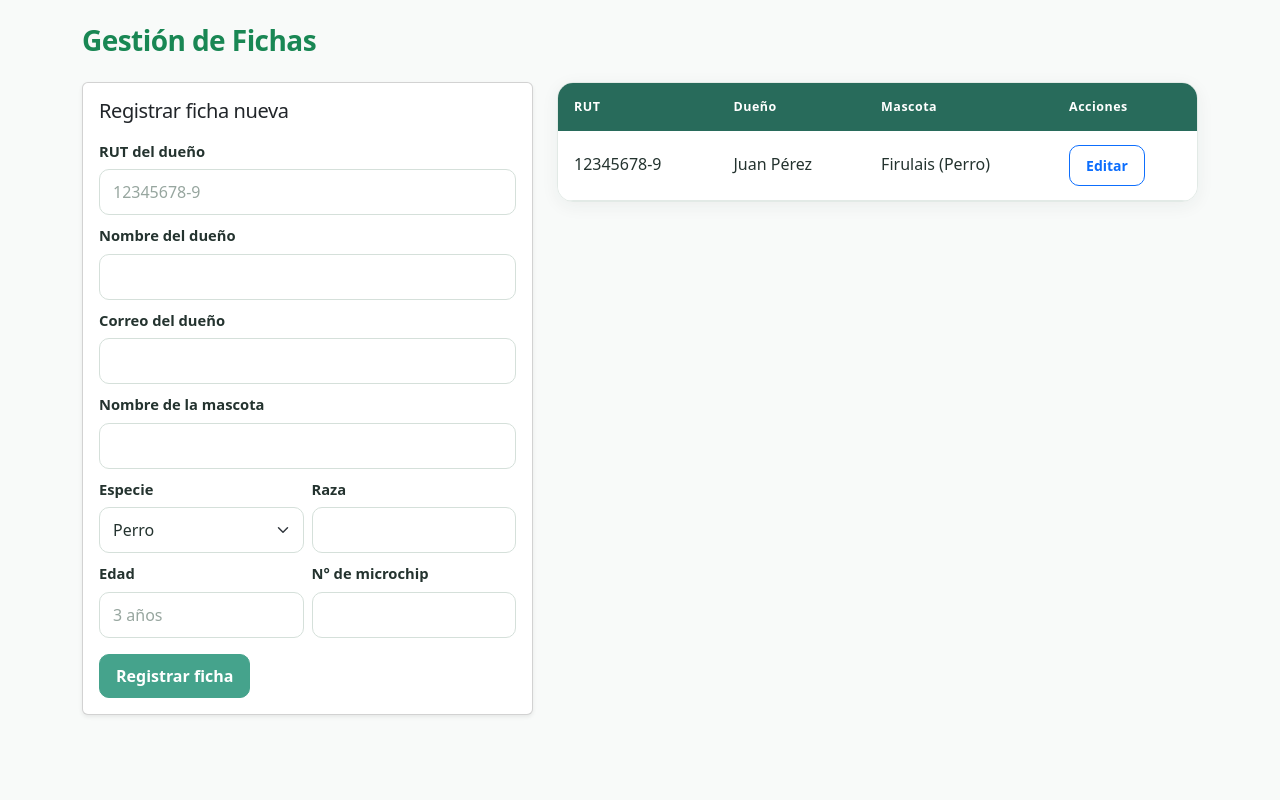
Test: FichasPage › registra una ficha nueva y la muestra en la lista
Type "11222333-4" into the field labelled "RUT del dueño" at {"x": 308, "y": 192}, box [99,169,516,215]
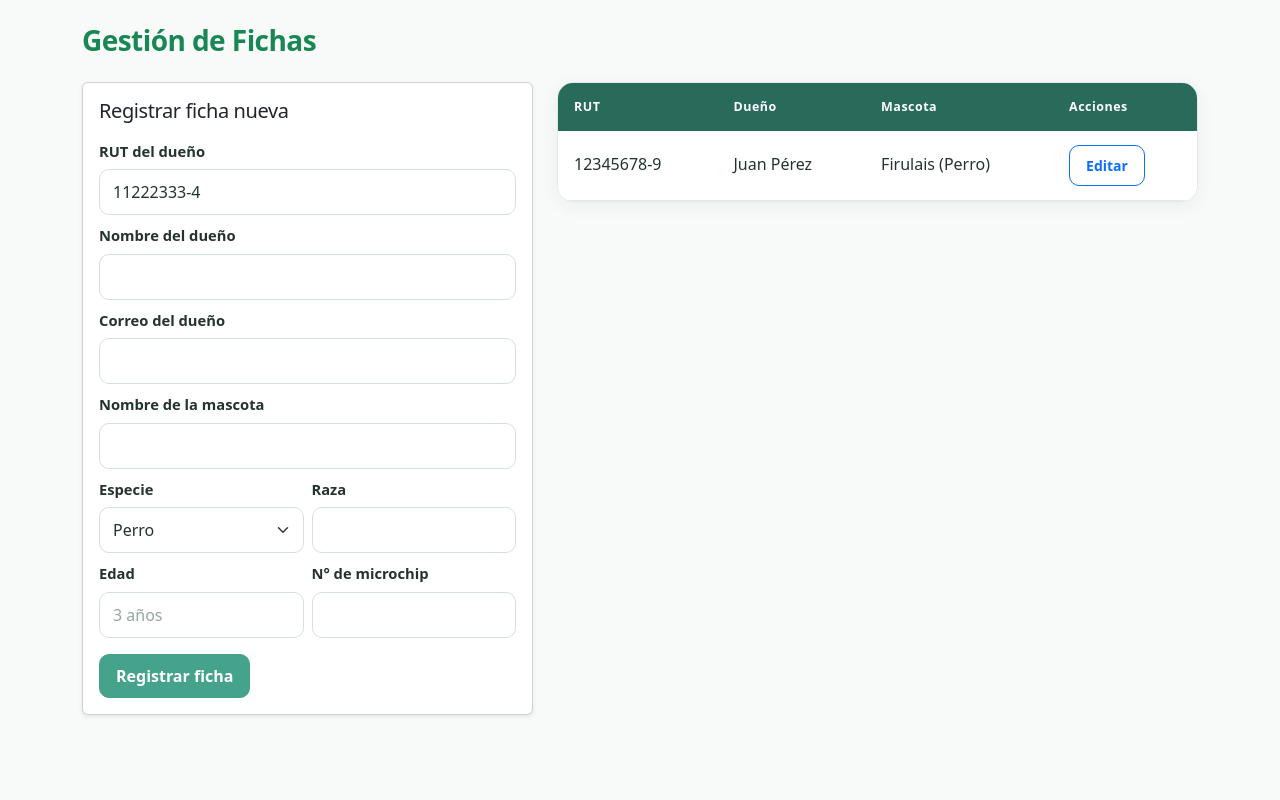
Type "María Soto" into the field labelled "Nombre del dueño" at {"x": 308, "y": 277}, box [99,254,516,300]
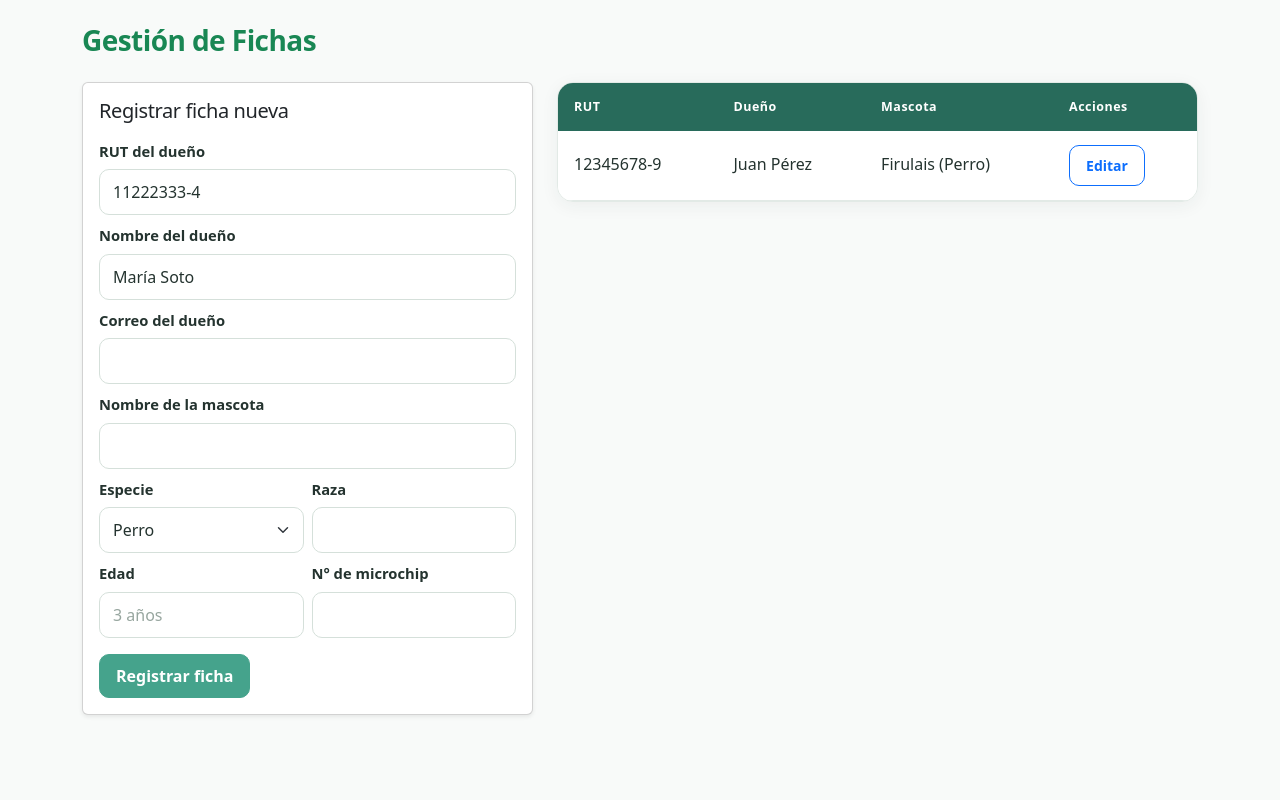
Type "maria@correo.cl" into the field labelled "Correo del dueño" at {"x": 308, "y": 361}, box [99,338,516,384]
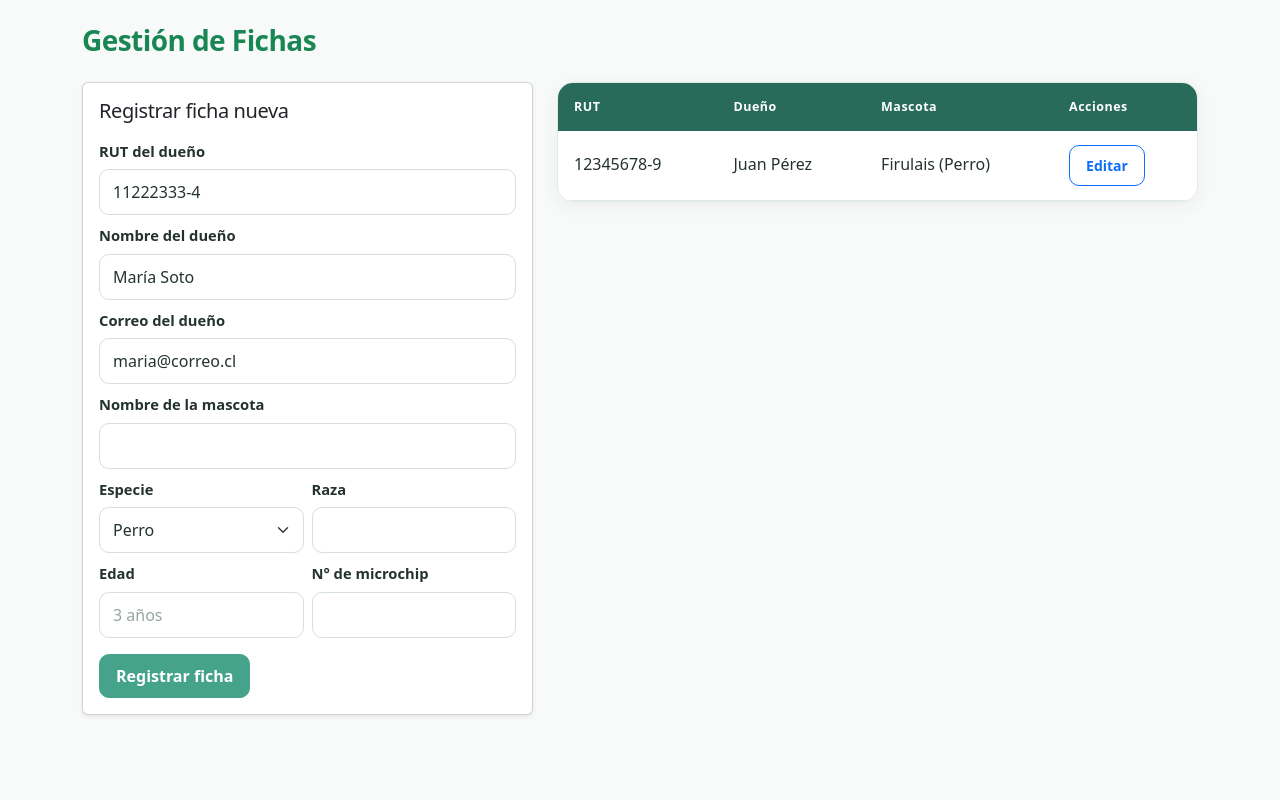
Type "Luna" into the field labelled "Nombre de la mascota" at {"x": 308, "y": 446}, box [99,423,516,469]
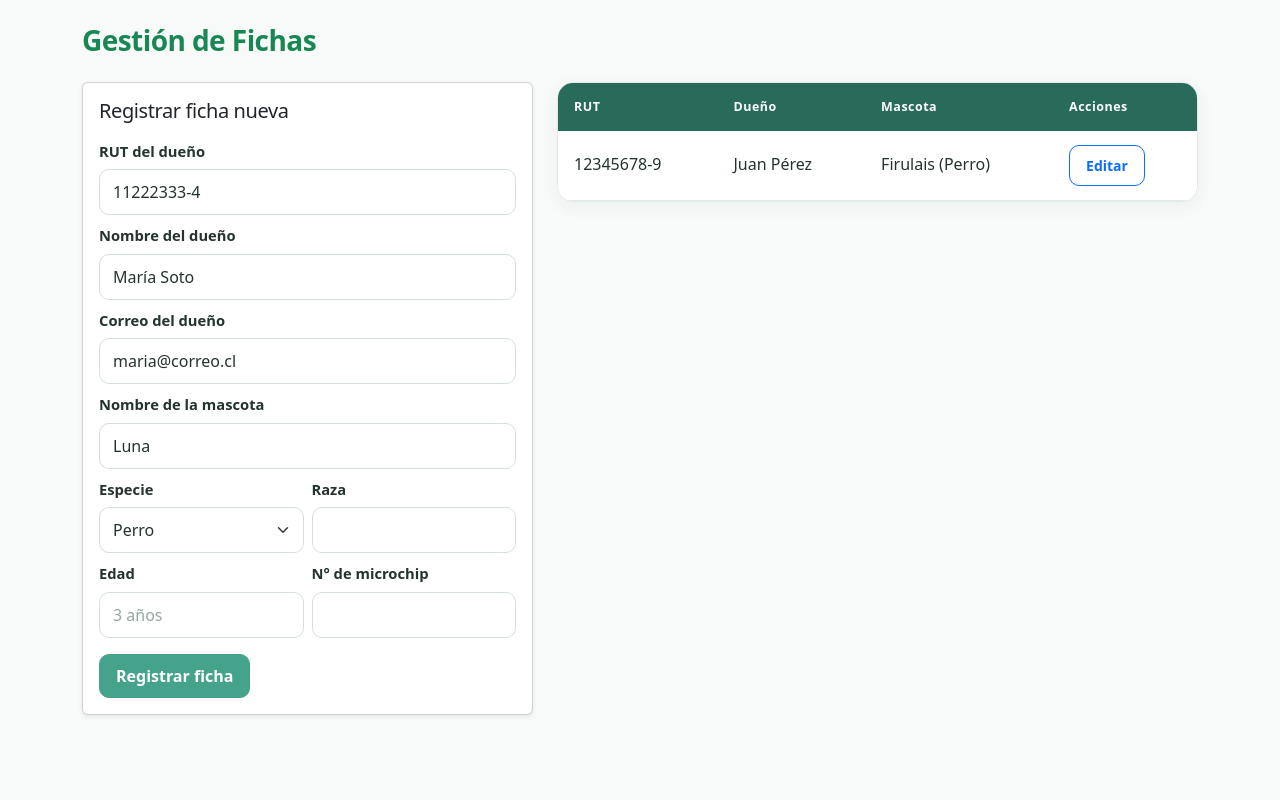
Click the button "Registrar ficha" at {"x": 175, "y": 676}, box [99,654,250,698]
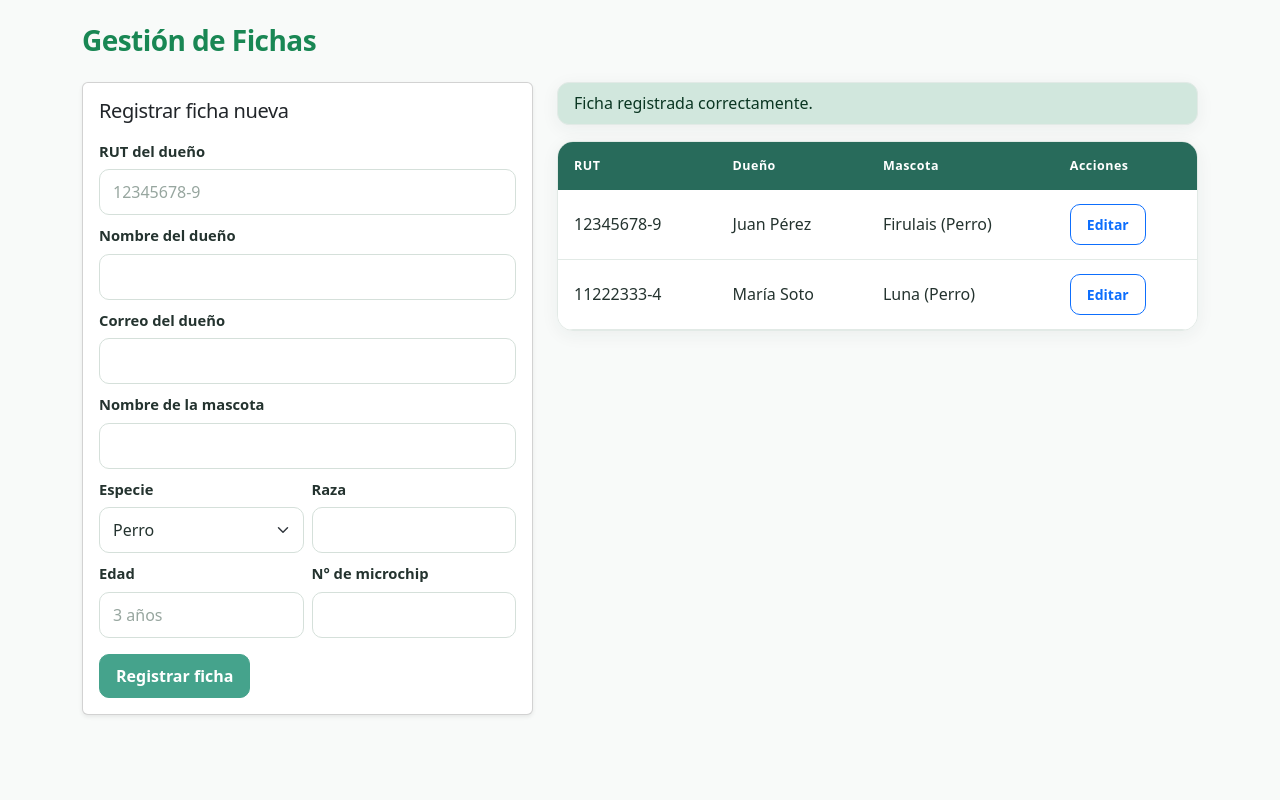
Now the text "Ficha registrada correctamente." is shown, box [557,82,1198,125]
Now the text "María Soto" is shown, box [717,260,867,330]
